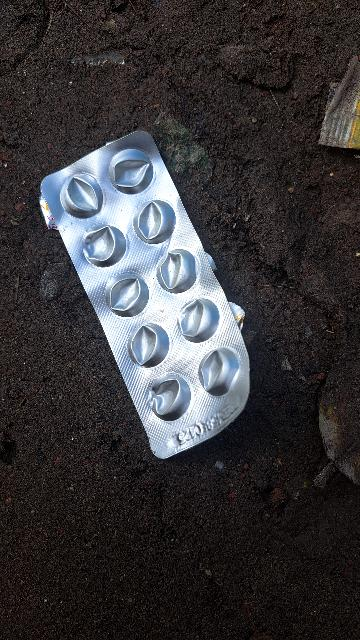medicine: (24, 112, 278, 468)
